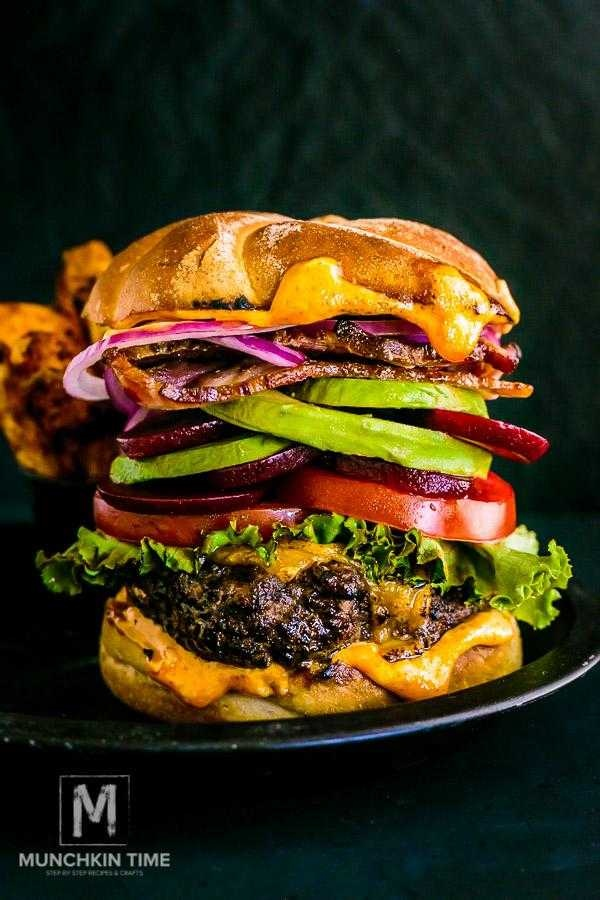hamburger: (92, 199, 553, 724)
